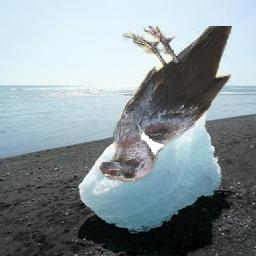Crow: (96, 27, 233, 184)
